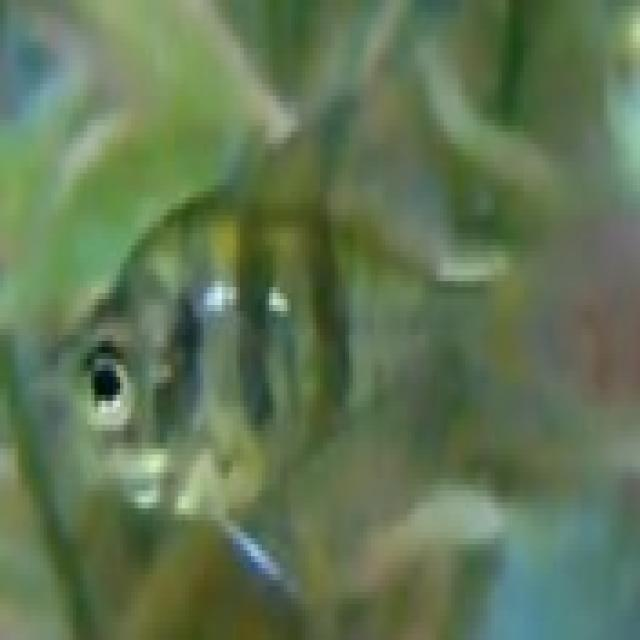Glass-Perchlet: (39, 75, 628, 598)
